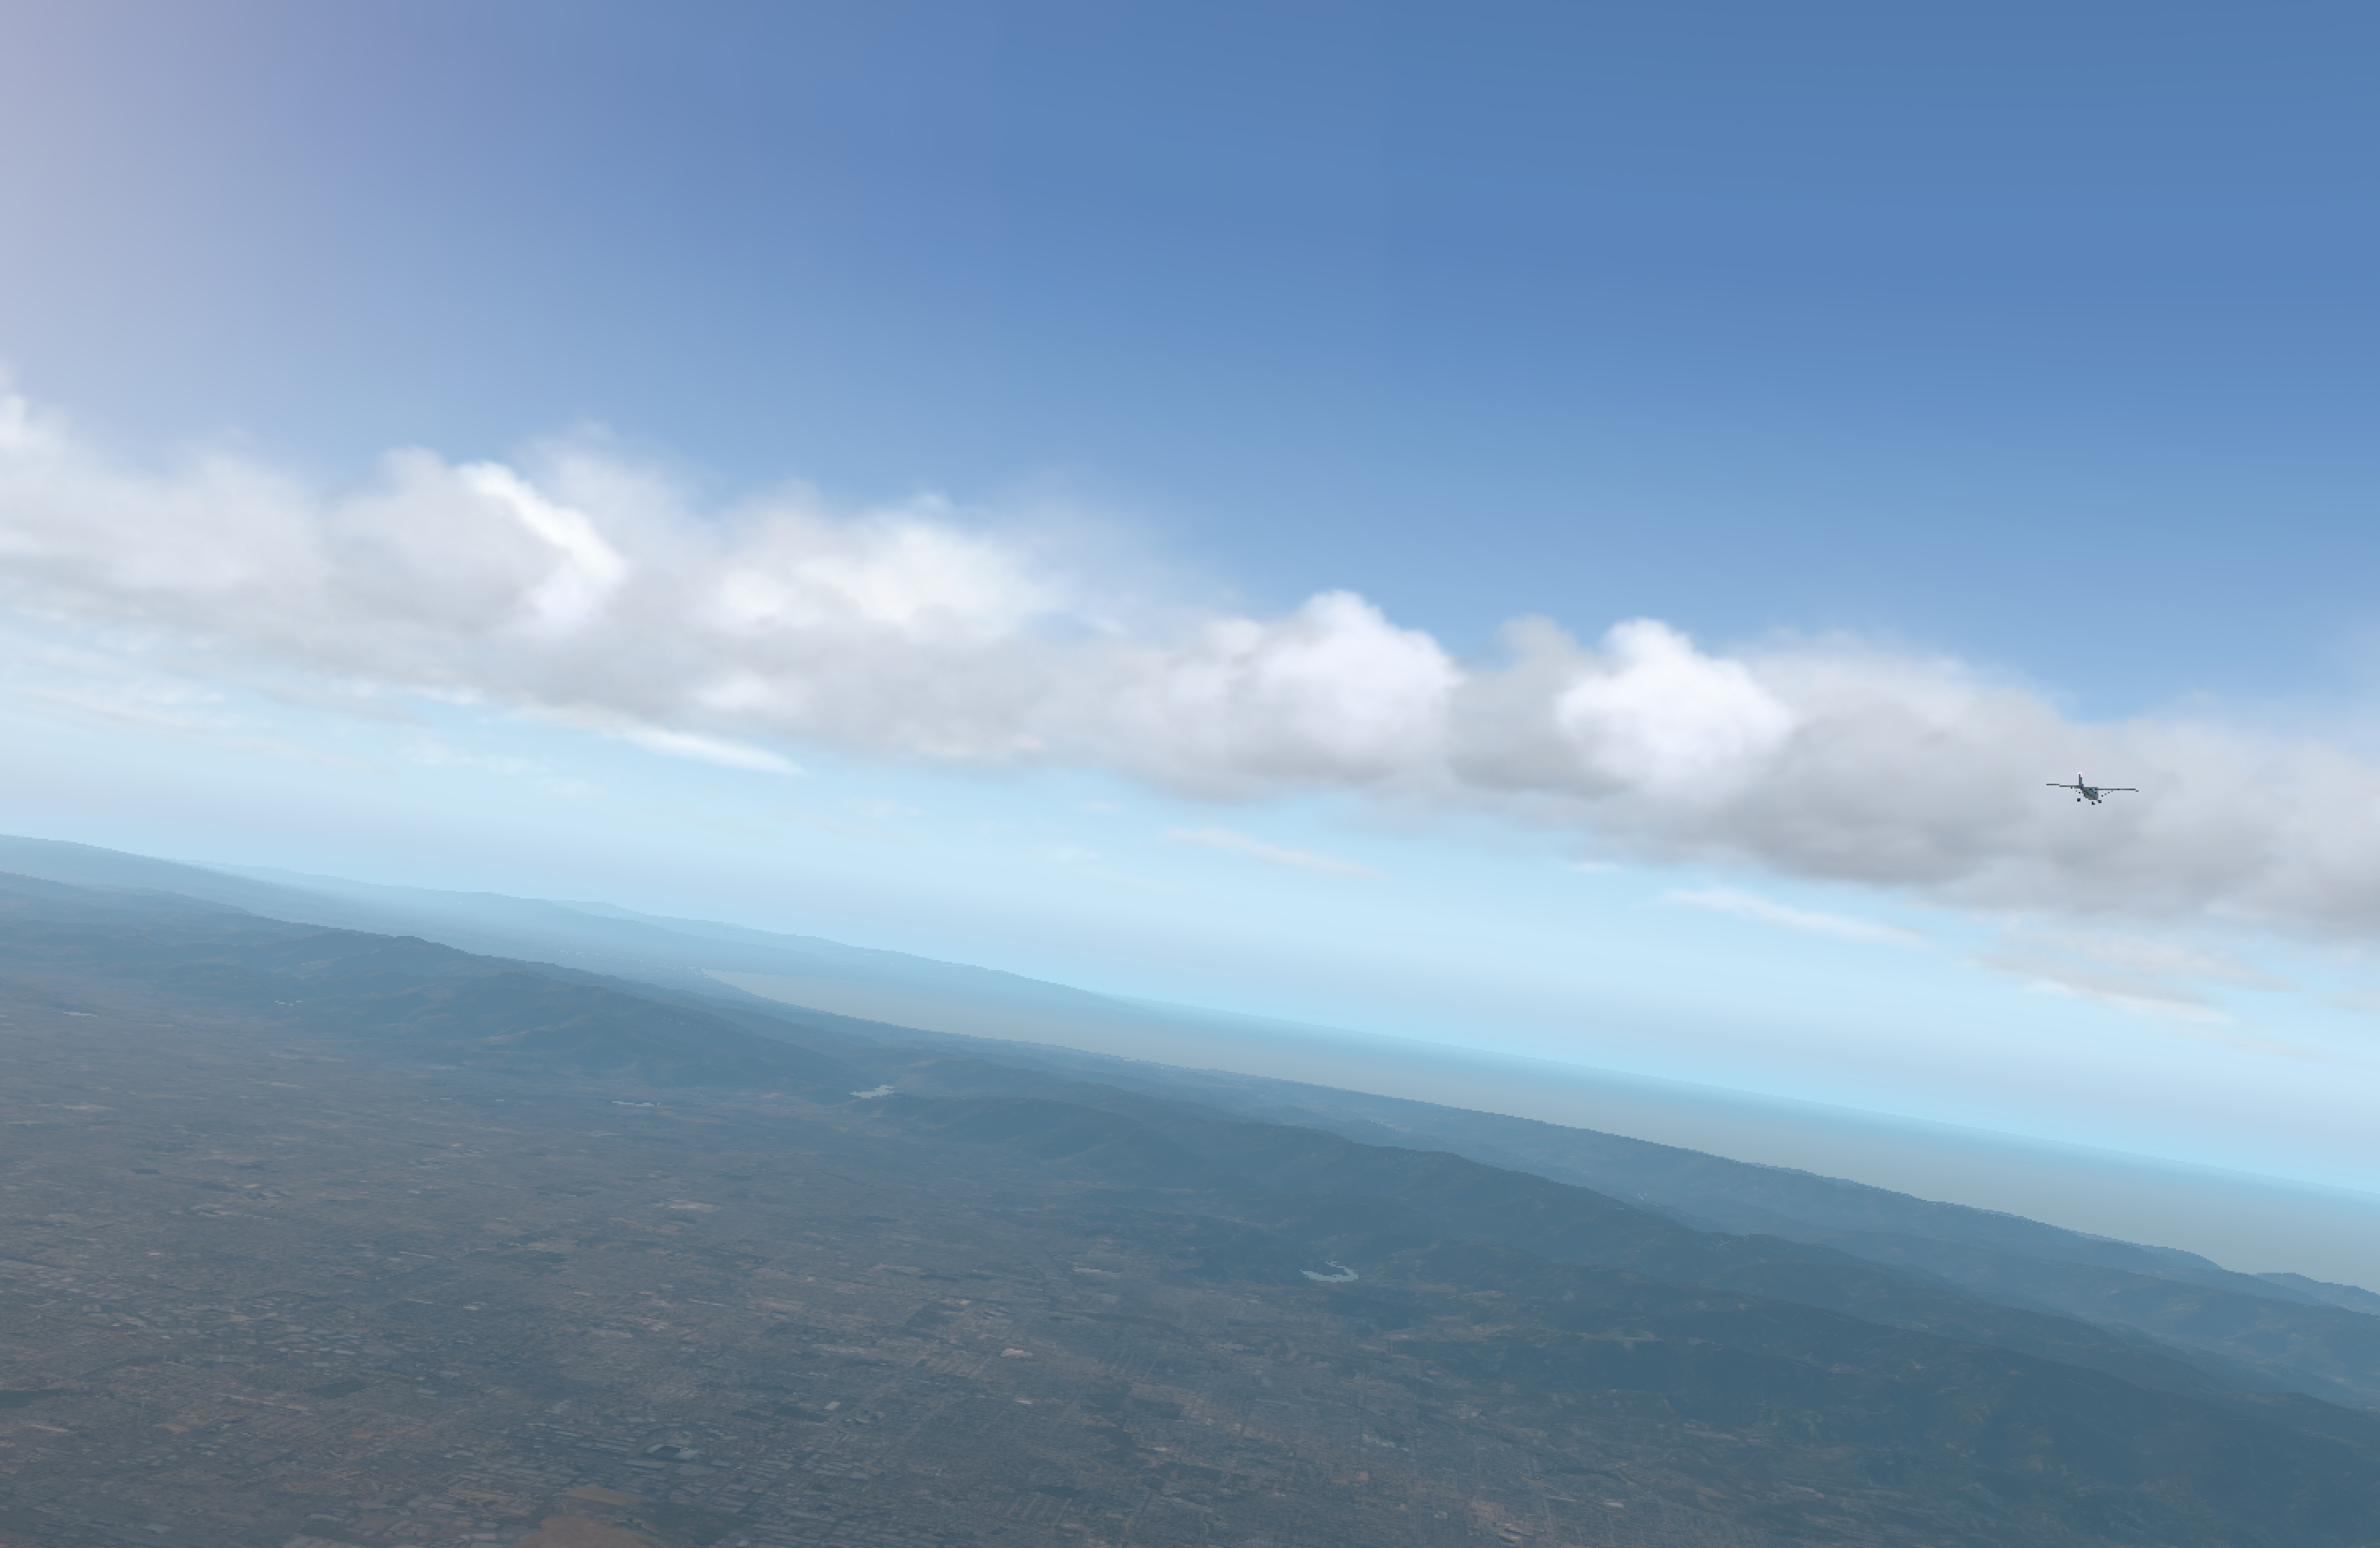aircraft: (2063, 783, 2120, 804)
